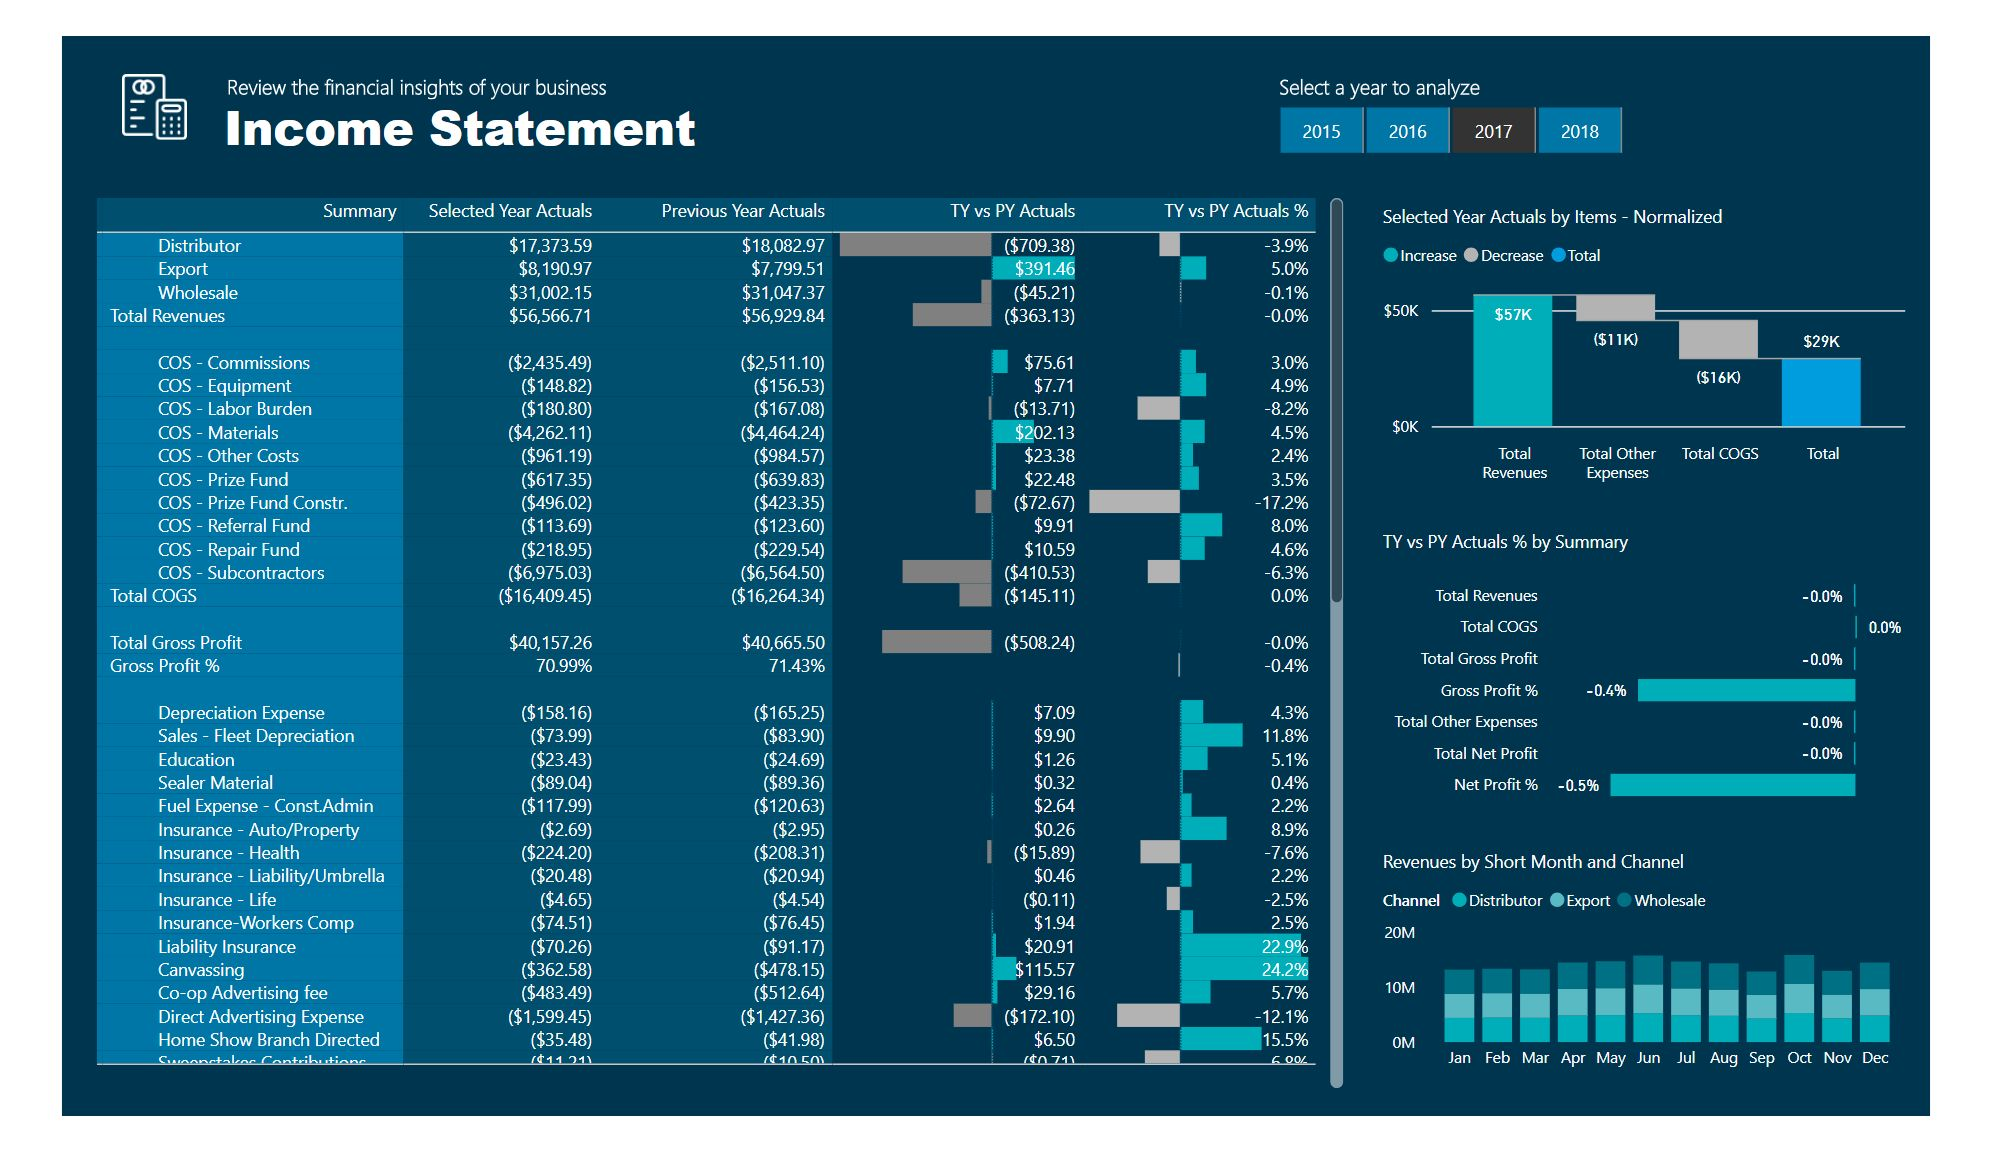

Layout of this report page (visuals, bound fields, positions):
{"tool":"powerbi","page":{"name":"Income Statement","canvas":[1280,720],"ordinal":1},"visuals":[{"type":"waterfallChart","fields":{"Category":["Income Statement Template.Items - Normalized"],"Y":["Annualized Analysis.Selected Year Actuals"]},"box":[900.3,95.4,368,198.3],"z":0},{"type":"columnChart","fields":{"Y":["Income Statement Analysis.Revenues"],"Category":["Dates.Short Month"],"Series":["Sales.Channel"]},"box":[900.3,536.6,368,160.1],"z":1000},{"type":"image","box":[18.5,0.9,88,55.6],"z":2000},{"type":"textbox","box":[829.3,0,202.2,34.4],"z":3000},{"type":"textbox","box":[107.6,0,291.5,34.4],"z":4000},{"type":"textbox","box":[105.9,15.1,348.1,59.5],"z":6000},{"type":"slicer","fields":{"Values":["Dates.Year"]},"box":[808.9,21.5,284,45.2],"z":8000},{"type":"tableEx","fields":{"Values":["Income Statement Template.Row Index","Income Statement Template.Summary","Income Statement Analysis.Selected Year Actuals","Annualized Analysis.Previous Year Actuals","Annualized Analysis.TY vs PY Actuals","Annualized Analysis.TY vs PY Actuals %"]},"box":[18,85.9,865.4,620.4],"z":9000},{"type":"barChart","fields":{"Y":["Annualized Analysis.TY vs PY Actuals %"],"Category":["Income Statement Template.Summary"]},"box":[900.3,318.1,368,197.2],"z":10000}]}

Visuals, with their boxes in screenshot pixels (x1, y1, x2, y2), scaled from the page's 1280x720 canvas onto the 1992x1152 screenshot:
waterfallChart - Income Statement Template.Items - Normalized x Annualized Analysis.Selected Year Actuals: pyautogui.locateOnScreen(1401, 153, 1974, 470)
columnChart - Income Statement Analysis.Revenues x Dates.Short Month: pyautogui.locateOnScreen(1401, 859, 1974, 1115)
image: pyautogui.locateOnScreen(29, 1, 166, 90)
textbox: pyautogui.locateOnScreen(1291, 0, 1605, 55)
textbox: pyautogui.locateOnScreen(167, 0, 621, 55)
textbox: pyautogui.locateOnScreen(165, 24, 707, 119)
slicer - Dates.Year: pyautogui.locateOnScreen(1259, 34, 1701, 107)
tableEx - Income Statement Template.Row Index x Income Statement Template.Summary: pyautogui.locateOnScreen(28, 137, 1375, 1130)
barChart - Annualized Analysis.TY vs PY Actuals % x Income Statement Template.Summary: pyautogui.locateOnScreen(1401, 509, 1974, 824)
